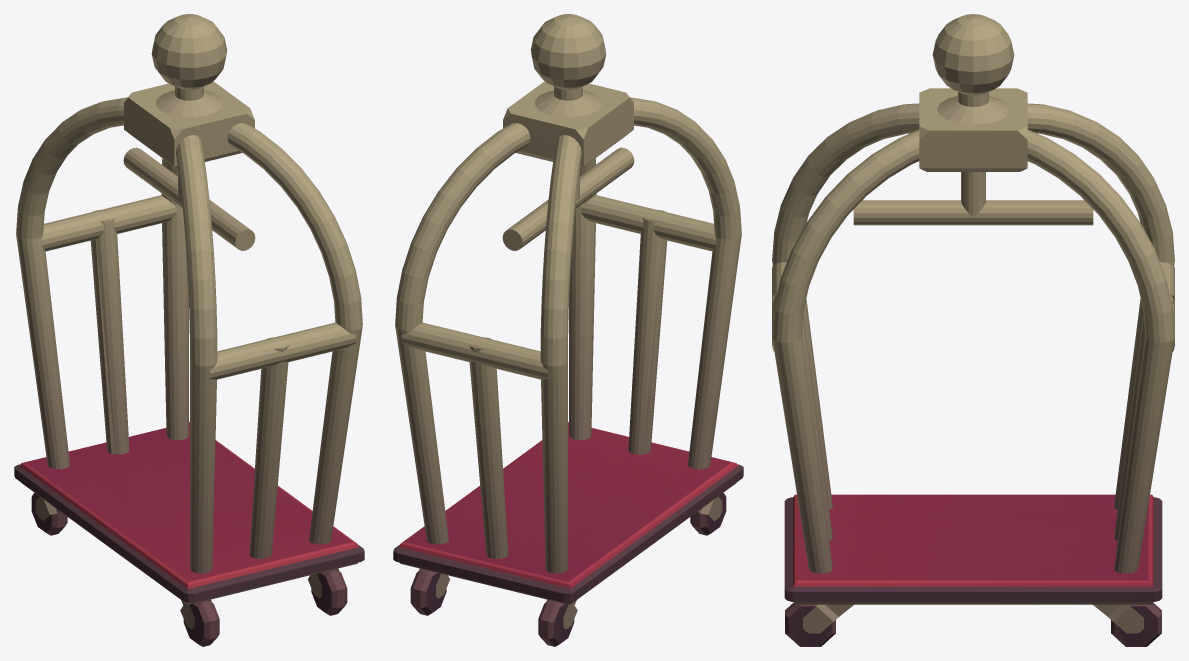
File: SM_LuggageCart.fbx
The picture shows the model from 3 angles, left to right: view 1: azimuth 30°, elevation 25°; view 2: azimuth 150°, elevation 25°; view 3: azimuth 270°, elevation 25°; orthographic projection. The views are drawn at different scales.
Visible parts, largest first — view 1: SM_Luggage Cart; view 2: SM_Luggage Cart; view 3: SM_Luggage Cart.
Part boxes in pixels (left/top/right/bottom): SM_Luggage Cart: left=14, top=14, right=364, bottom=646; SM_Luggage Cart: left=393, top=14, right=743, bottom=646; SM_Luggage Cart: left=772, top=14, right=1174, bottom=646.
Size of the model in its own units: 75.27 by 136 by 221.
